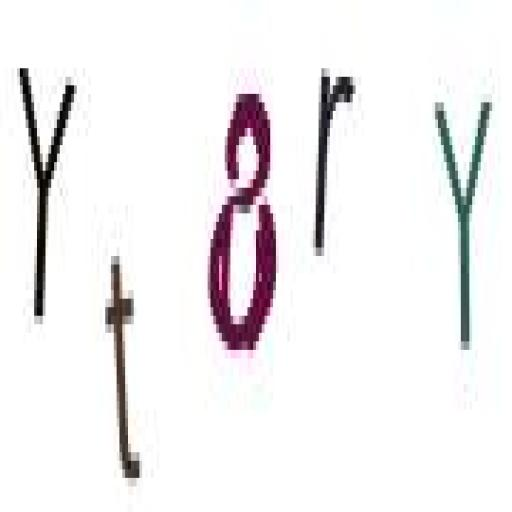8: (204, 61, 280, 371)
Y: (433, 78, 500, 365), (16, 61, 76, 334)
r: (311, 48, 362, 269)
t: (98, 236, 153, 498)
